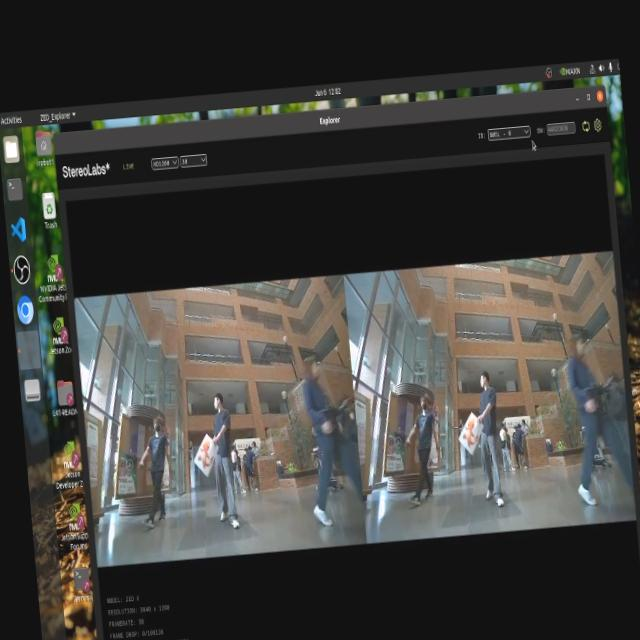red: (192, 434, 213, 478), (460, 418, 483, 448)
